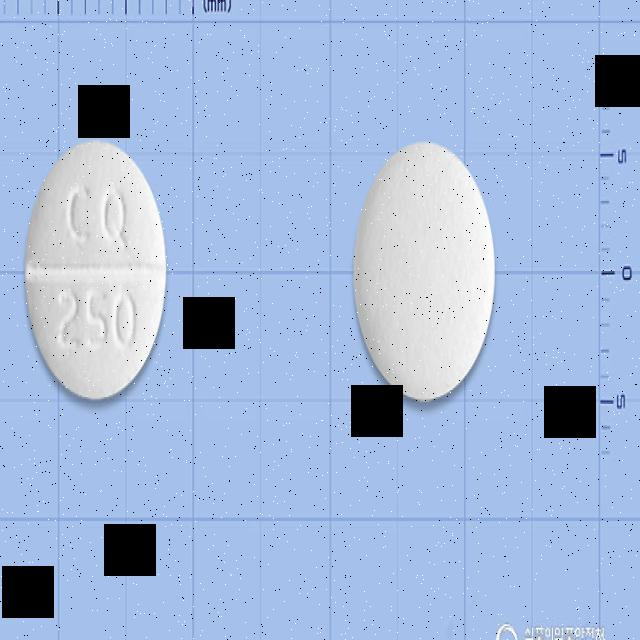Cq Robey: (25, 139, 166, 400)
